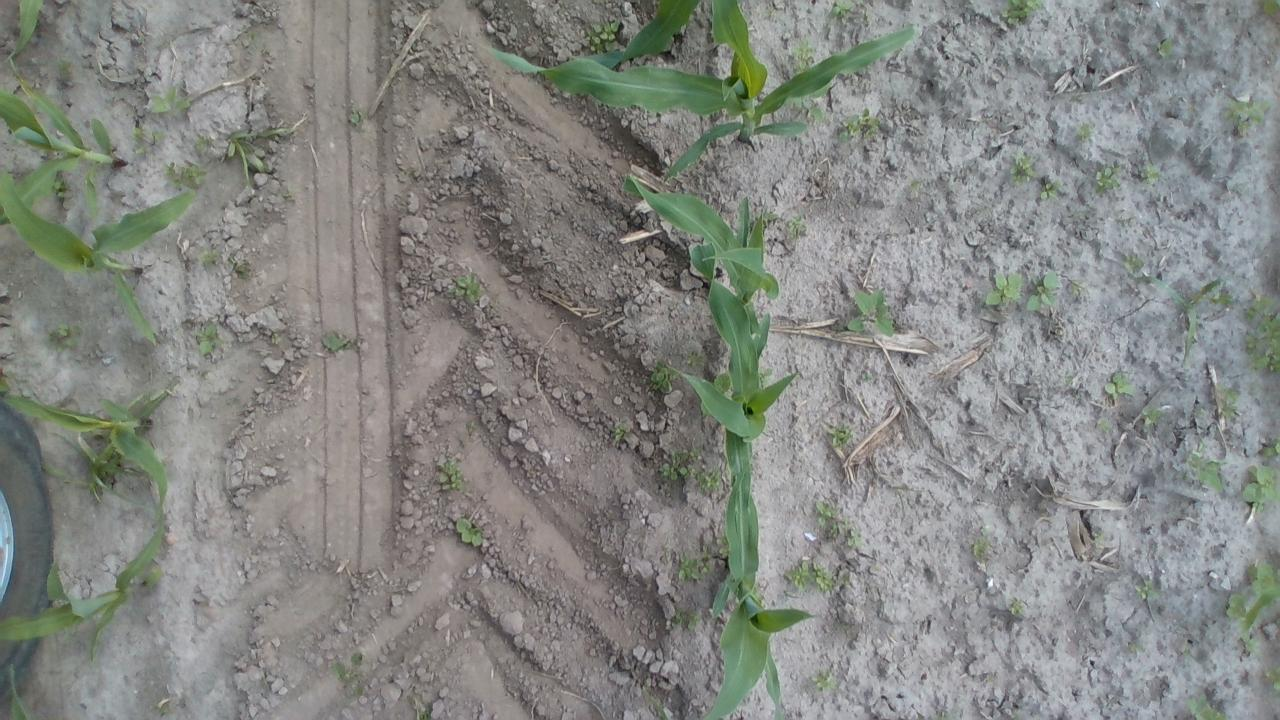Maize: (474, 0, 916, 187), (666, 240, 800, 568), (0, 169, 197, 350), (700, 466, 812, 720), (616, 173, 779, 330), (3, 377, 166, 513), (0, 62, 131, 228), (0, 528, 164, 660), (587, 0, 696, 74), (7, 0, 37, 67), (6, 663, 30, 720)
Weeds: (1144, 274, 1218, 369), (1226, 560, 1280, 620), (844, 286, 894, 338), (1224, 94, 1278, 137), (1244, 315, 1280, 371), (228, 132, 269, 176), (1243, 466, 1280, 512), (834, 108, 880, 144), (1189, 456, 1229, 496), (791, 31, 824, 75), (1026, 274, 1060, 312), (152, 86, 193, 116), (661, 447, 698, 480), (986, 271, 1021, 305), (332, 652, 368, 685), (1186, 693, 1226, 720), (586, 19, 618, 49), (826, 518, 860, 546), (790, 96, 828, 121), (448, 273, 480, 302), (1106, 368, 1140, 395), (1246, 292, 1276, 322), (134, 128, 164, 158), (784, 560, 811, 593), (48, 324, 82, 350), (1098, 167, 1128, 196), (1218, 384, 1243, 418), (440, 455, 462, 493), (650, 362, 674, 395), (458, 518, 486, 546), (174, 167, 209, 189), (1010, 153, 1034, 185), (193, 325, 217, 356), (1006, 0, 1042, 19), (1040, 177, 1065, 204), (674, 606, 699, 633), (54, 178, 75, 209), (679, 556, 704, 581), (812, 560, 836, 586), (1142, 162, 1166, 188), (1135, 573, 1159, 598), (322, 332, 348, 354), (701, 467, 722, 492), (830, 0, 862, 16), (829, 424, 852, 446), (786, 212, 808, 234), (684, 350, 710, 368), (972, 538, 994, 557), (1066, 278, 1085, 300), (54, 56, 70, 81), (1160, 36, 1178, 58), (1078, 122, 1096, 144), (714, 532, 730, 556), (810, 672, 834, 688), (1126, 252, 1145, 272), (1261, 436, 1280, 456), (1242, 635, 1262, 654), (814, 504, 832, 523), (1142, 404, 1158, 424), (348, 110, 364, 128), (1260, 0, 1279, 15), (1212, 290, 1232, 304), (1011, 598, 1028, 614), (281, 186, 297, 202), (1268, 666, 1280, 687), (201, 248, 217, 262), (655, 703, 667, 720), (608, 430, 626, 441), (198, 135, 212, 148), (1098, 420, 1112, 432), (420, 704, 432, 718), (164, 163, 174, 173), (911, 178, 924, 185)
